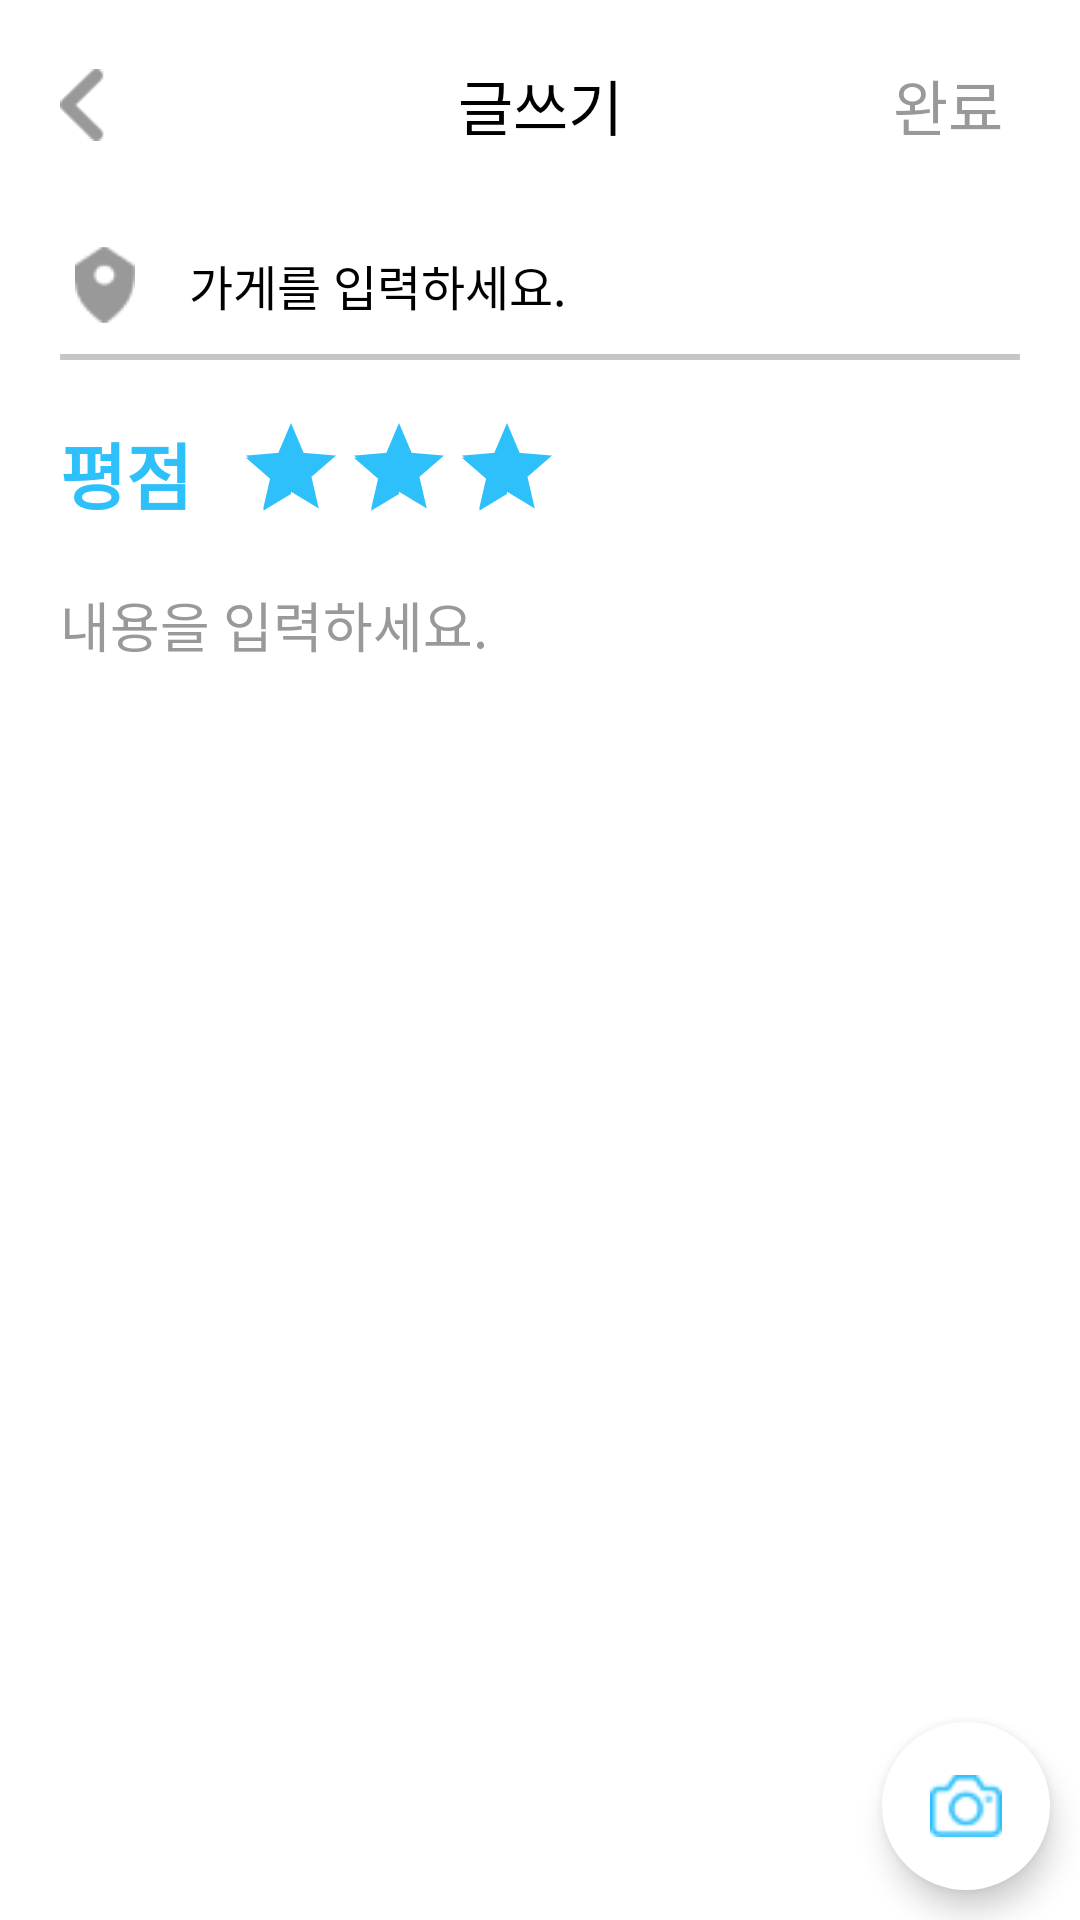

Where icons sit on this 1080 × 1920 app screen, as (x1, y1, x2, y2):
back: (60, 69, 103, 141)
camera: (889, 1775, 1002, 1843)
